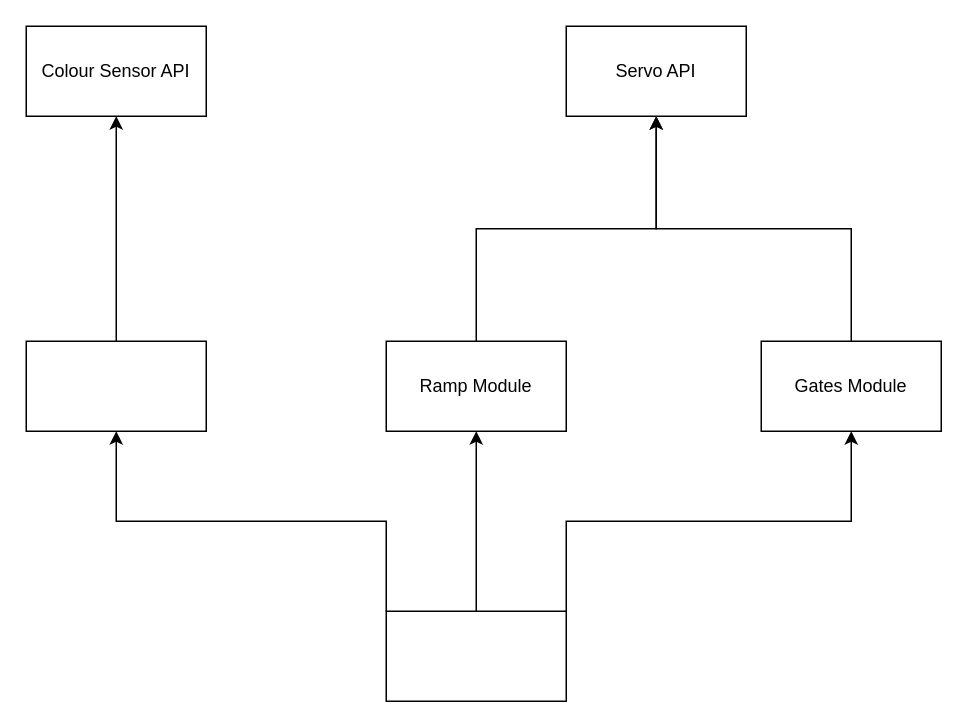
The diagram is 968 pixels wide and 728 high, and some of its shapes have lost their labels. The box of each missing label's shape, as (x1, y1, x2, y2) in pixels:
Classifier Module: (25, 340, 206, 431)
Main Module: (385, 610, 566, 701)
